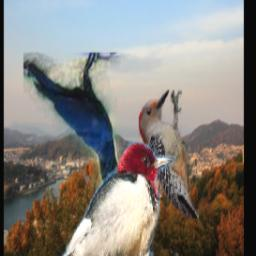Crow: (23, 54, 130, 188)
Woodpecker: (41, 143, 176, 256), (139, 90, 199, 219)
